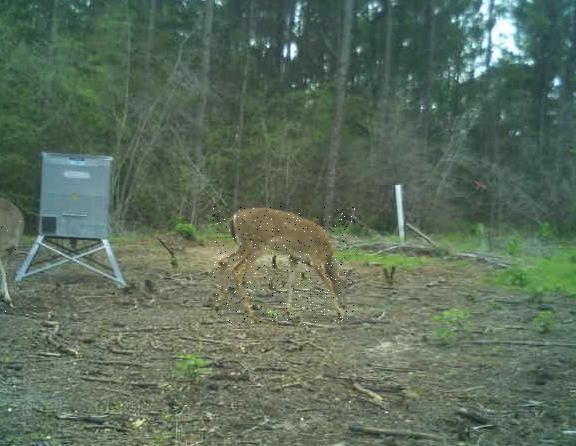Deer: (213, 206, 357, 325), (0, 194, 27, 317)
